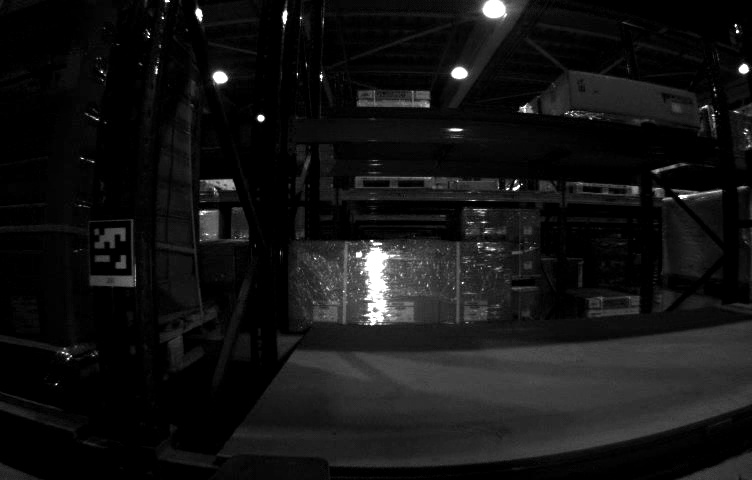True Barcode: (6, 299, 39, 335)
